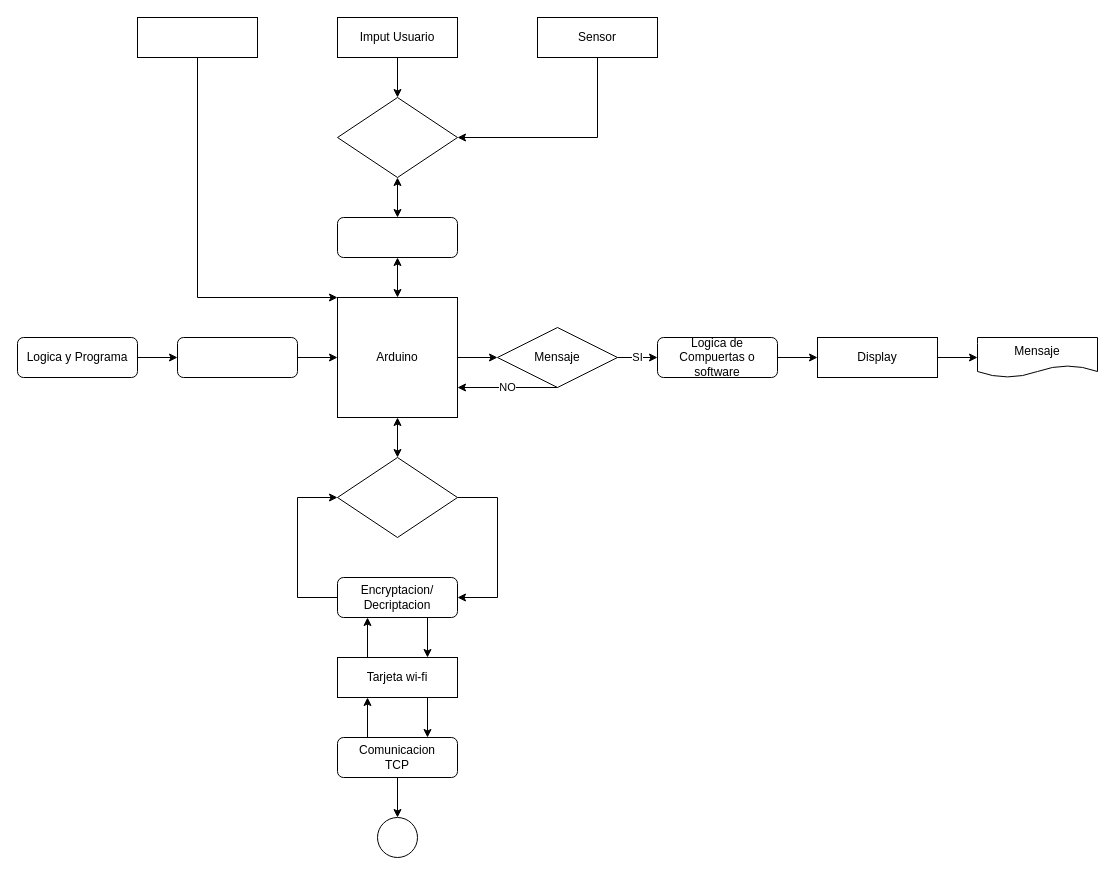
Image size: 1115x875. Some labels were removed from this diagram. The centre of each missing label's shape, as x and y in pixels:
"C++" goes at pixel 237 357.
"Conexion Establecida" goes at pixel 397 497.
"Fuente De Poder + -" goes at pixel 197 37.
"Procesamiento de Datos" goes at pixel 397 237.
"Usuario?" goes at pixel 397 137.
